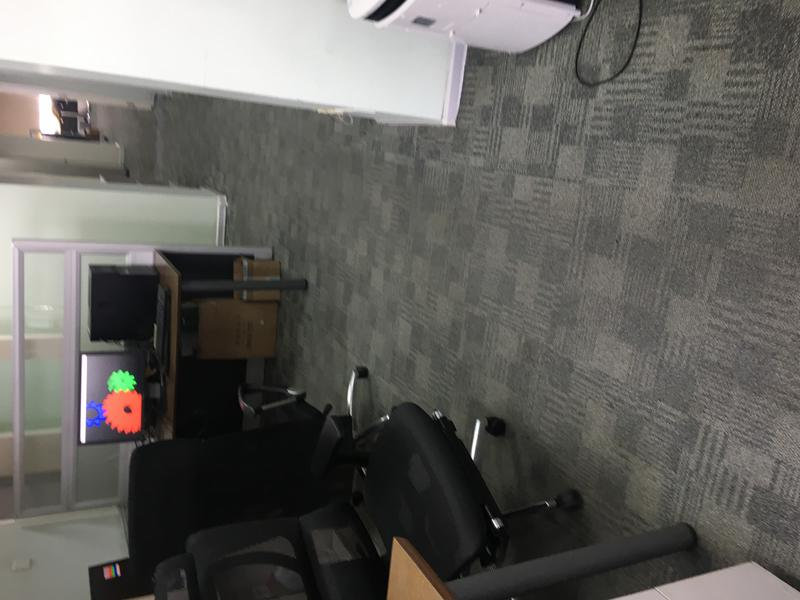glxgears_pass: (86, 359, 141, 439)
